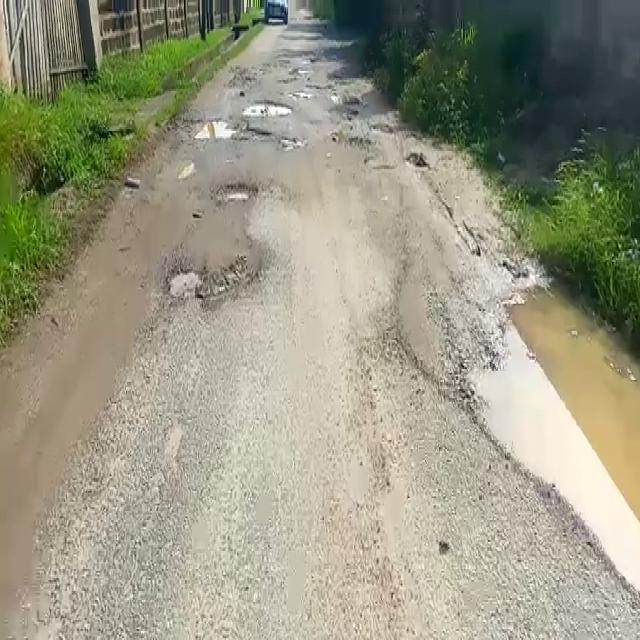Pothole: (458, 278, 638, 594), (167, 266, 250, 302), (178, 116, 237, 140), (242, 99, 294, 118), (214, 184, 256, 203)
